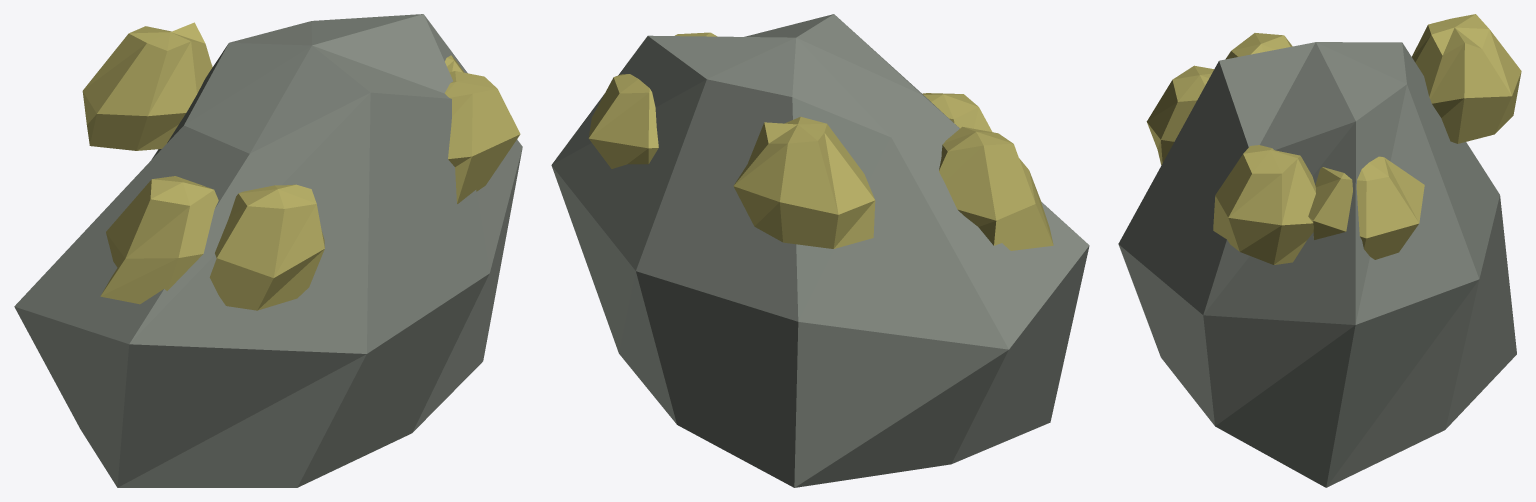
The model's file is sulfur_node.glb.
The picture shows the model from 3 angles, left to right: view 1: azimuth 30°, elevation 25°; view 2: azimuth 150°, elevation 25°; view 3: azimuth 270°, elevation 25°; orthographic projection. The views are drawn at different scales.
Parts seen in each view (by area): view 1: sulfur_node; view 2: sulfur_node; view 3: sulfur_node.
Boxes of the visible parts, x1,y1,x2,y2 form: sulfur_node: (14, 14, 522, 487); sulfur_node: (551, 14, 1089, 487); sulfur_node: (1118, 14, 1521, 487).
Size of the model in its own units: 1.76 by 1.25 by 1.27.
